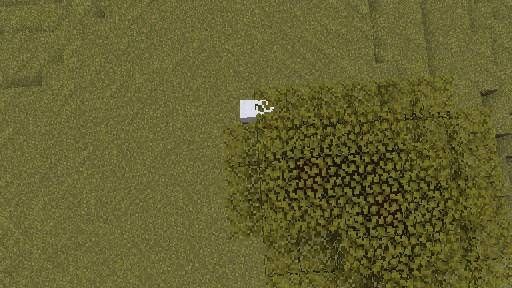sheep: (239, 98, 273, 123)
